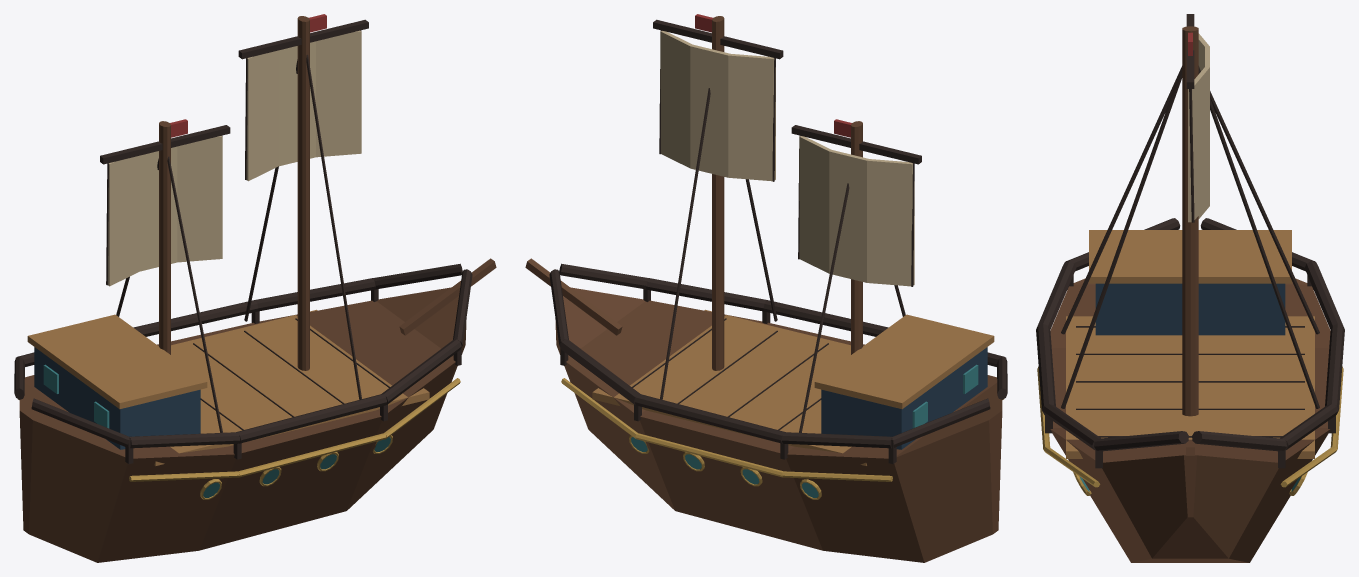
The model's file is PirateCove_ShipBow_Standard.glb.
The picture shows the model from 3 angles, left to right: view 1: azimuth 30°, elevation 25°; view 2: azimuth 150°, elevation 25°; view 3: azimuth 270°, elevation 25°; orthographic projection. The views are drawn at different scales.
Parts seen in each view (by area): view 1: PirateCove_ShipBow_Standard; view 2: PirateCove_ShipBow_Standard; view 3: PirateCove_ShipBow_Standard.
Part boxes in pixels (x1,y1,x2,y2): PirateCove_ShipBow_Standard: (14, 14, 496, 562); PirateCove_ShipBow_Standard: (525, 14, 1007, 562); PirateCove_ShipBow_Standard: (1036, 14, 1344, 562).
Size of the model in its own units: 3.49 by 3.38 by 1.79.
